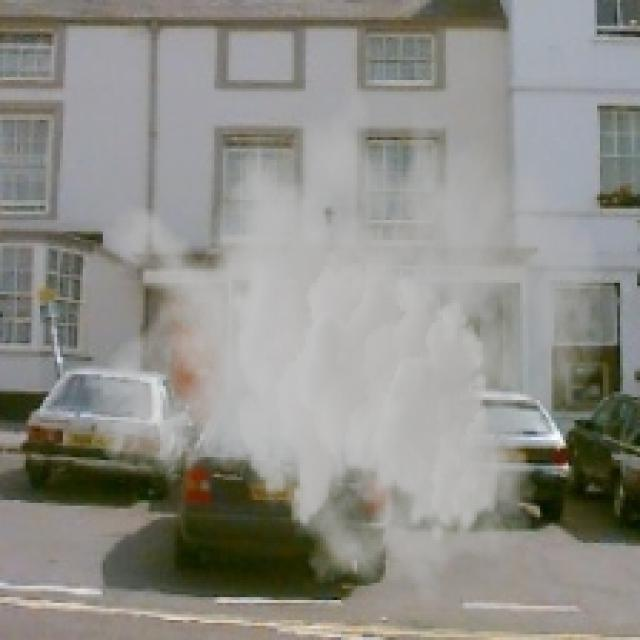smoke: (85, 54, 606, 606)
